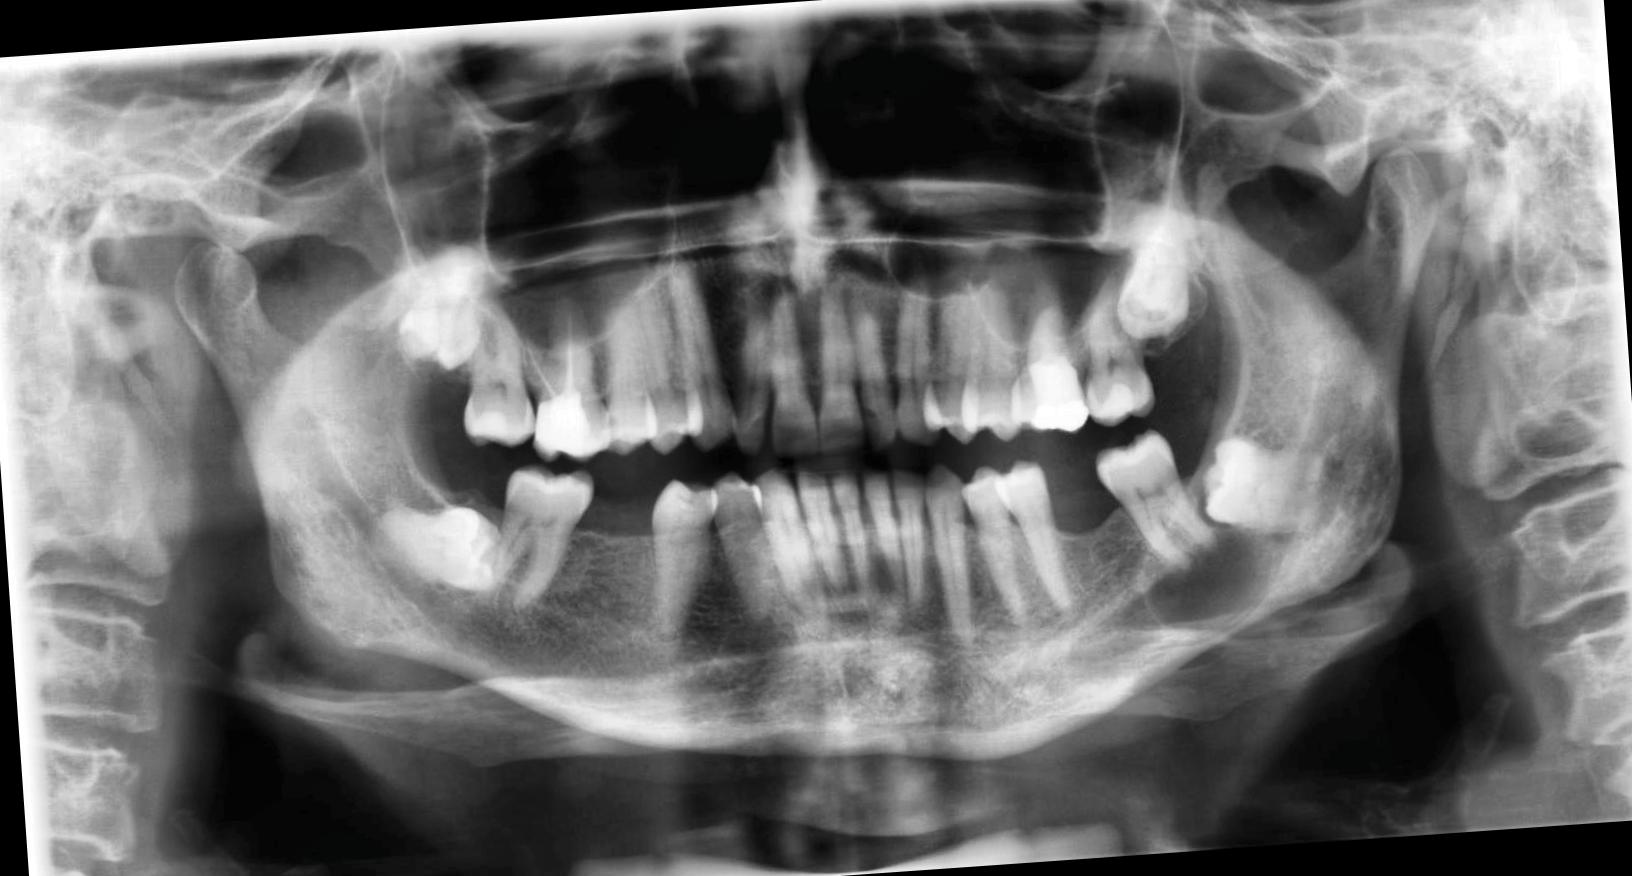dentigerous: (1135, 478, 1276, 633)
